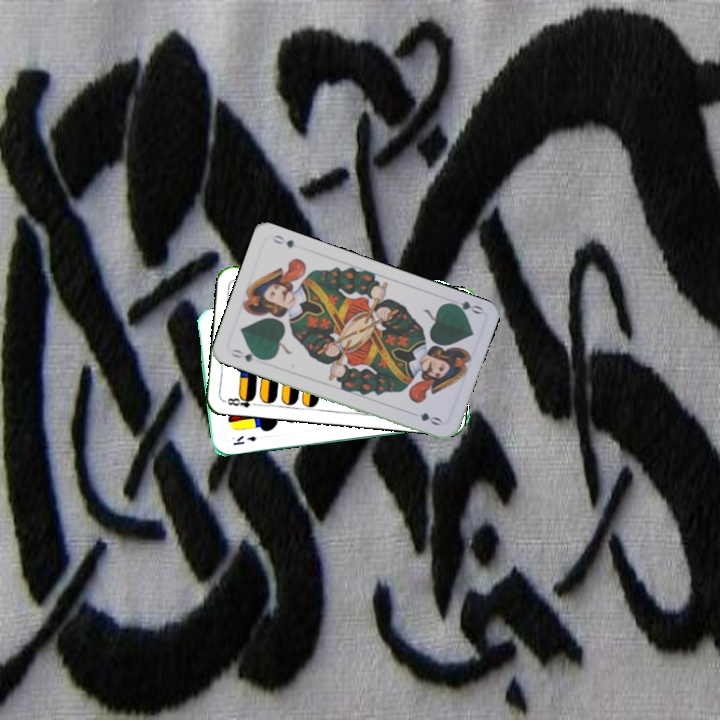E8: (224, 391, 261, 410)
EK: (230, 432, 259, 448)
GO: (444, 296, 485, 317), (227, 345, 267, 365)
